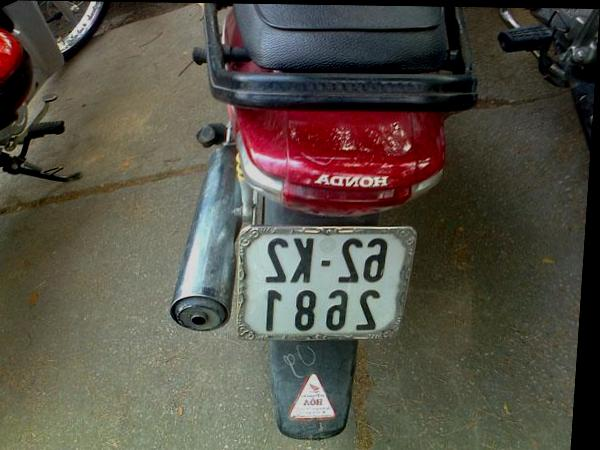License_Plate: (240, 225, 415, 343)
